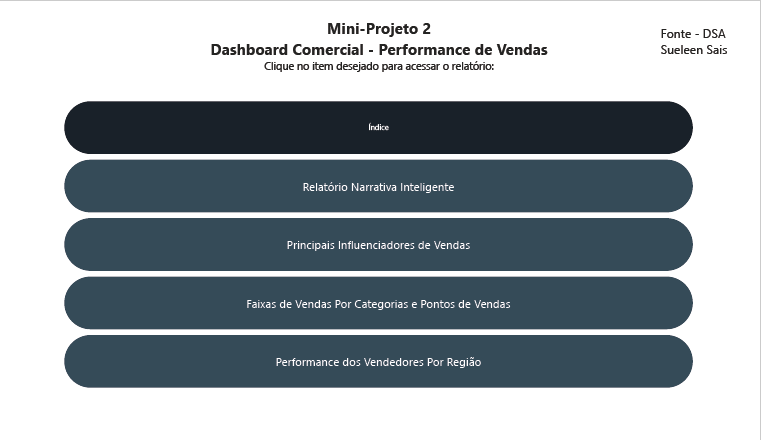

The dashboard page shown, as its layout file describes it:
{"tool":"powerbi","page":{"name":"Índice","canvas":[1280,720],"ordinal":0},"visuals":[{"type":"pageNavigator","box":[90,151.4,1097.1,501.4],"z":0},{"type":"textbox","box":[55.7,0,1167.1,120],"z":1},{"type":"textbox","box":[1125.7,12.9,142.9,92.9],"z":2}]}

Visuals, with their boxes in screenshot pixels (x1, y1, x2, y2), scaled from the page's 1280x720 canvas onto the 761x440 screenshot:
pageNavigator: box=[54, 93, 706, 399]
textbox: box=[33, 0, 727, 73]
textbox: box=[669, 8, 754, 65]
